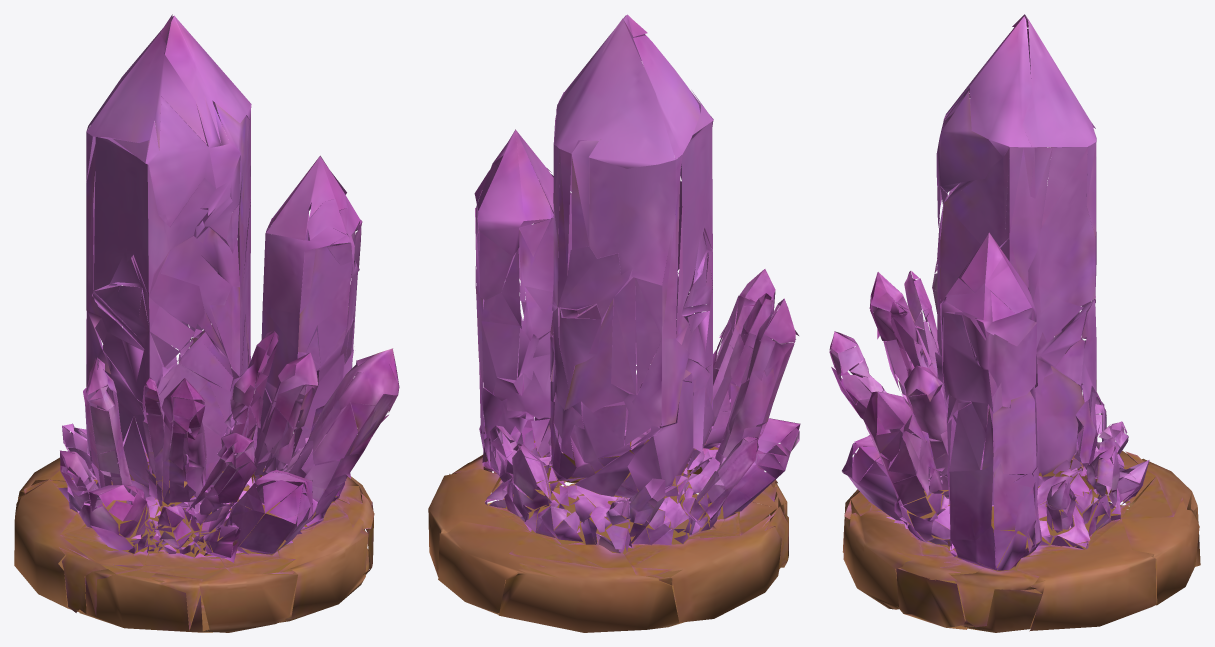
The model's file is crystal.glb.
The picture shows the model from 3 angles, left to right: view 1: azimuth 30°, elevation 25°; view 2: azimuth 150°, elevation 25°; view 3: azimuth 270°, elevation 25°; orthographic projection. The views are drawn at different scales.
Parts seen in each view (by area): view 1: room_crystal; view 2: room_crystal; view 3: room_crystal.
Part boxes in pixels (box(x1,y1,x2,y2)): room_crystal: box(14, 14, 399, 632); room_crystal: box(428, 14, 800, 632); room_crystal: box(829, 14, 1200, 632).
Size of the model in its own units: 0.3267 by 0.5497 by 0.3429.
Materials: 1 (1 with a texture image).
